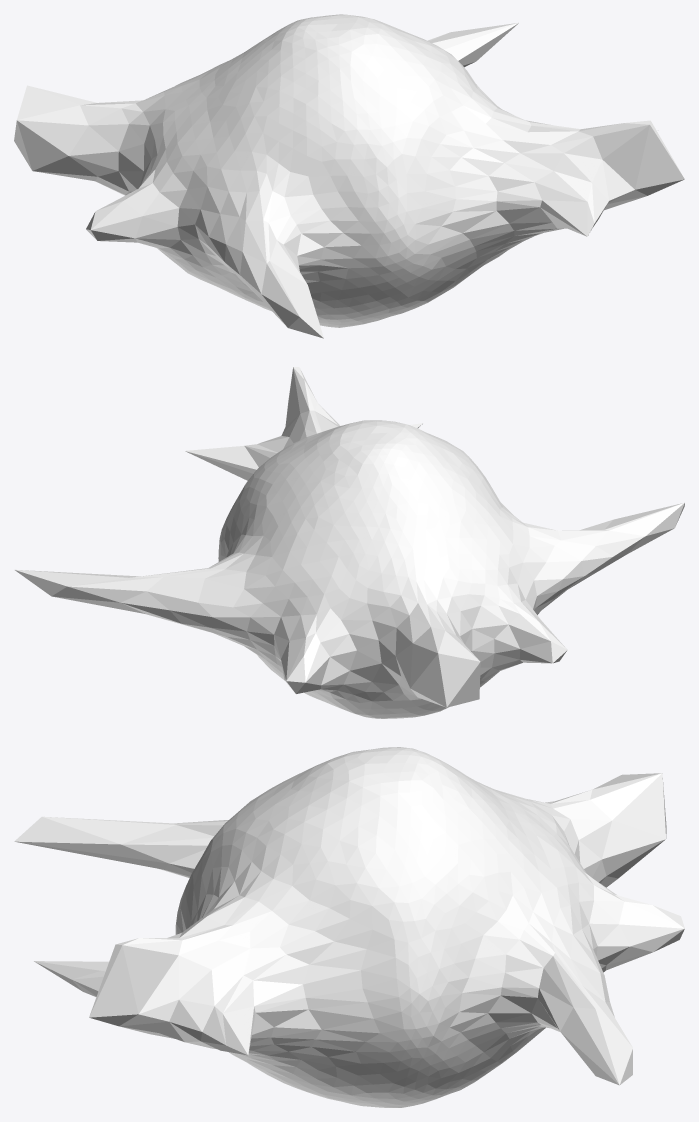
The model's file is plane_rotZ45[0.3,0.0,0.3]s1[-1.7,0.0,-1.7]._00070.obj.
The picture shows the model from 3 angles, top to bottom: view 1: azimuth 30°, elevation 25°; view 2: azimuth 150°, elevation 25°; view 3: azimuth 270°, elevation 25°; orthographic projection. The views are drawn at different scales.
Bounding box in the file's own units: 1.16 × 0.6266 × 1.15.
Materials: 1 (1 with a texture image).
